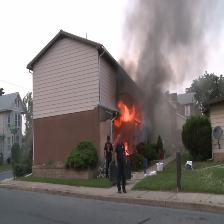fire: (95, 98, 151, 186)
smoke: (108, 1, 224, 97)
